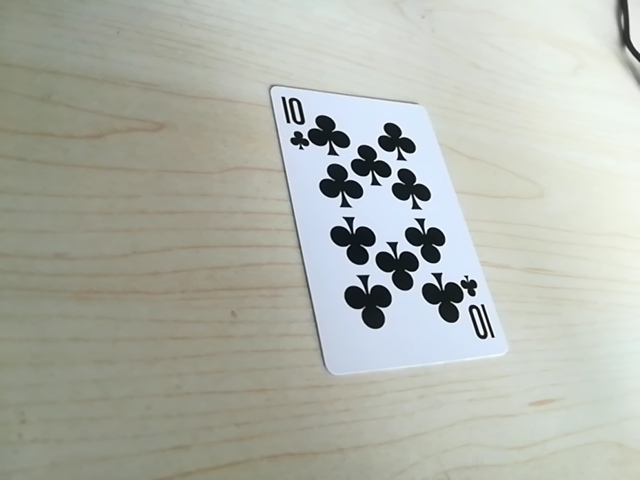mh 10: (272, 91, 313, 152), (459, 275, 493, 345)
